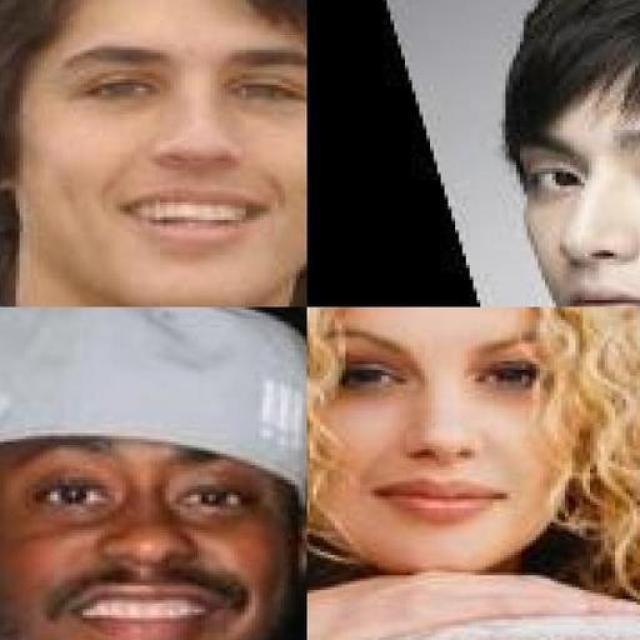bareface: (306, 302, 588, 578)
